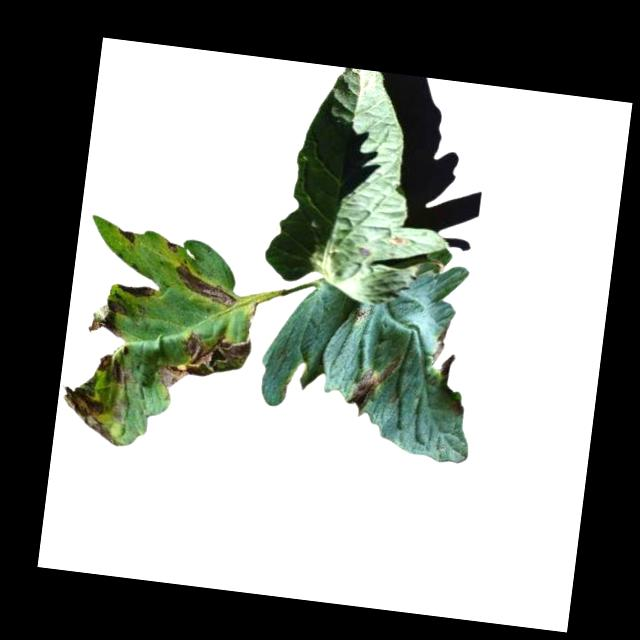Early_blight: (155, 327, 253, 397), (56, 381, 125, 446), (344, 348, 402, 415), (169, 259, 240, 310), (83, 294, 131, 341), (94, 351, 135, 390), (114, 281, 156, 299), (117, 225, 139, 244), (386, 232, 411, 246), (163, 238, 180, 252), (355, 244, 372, 257)
